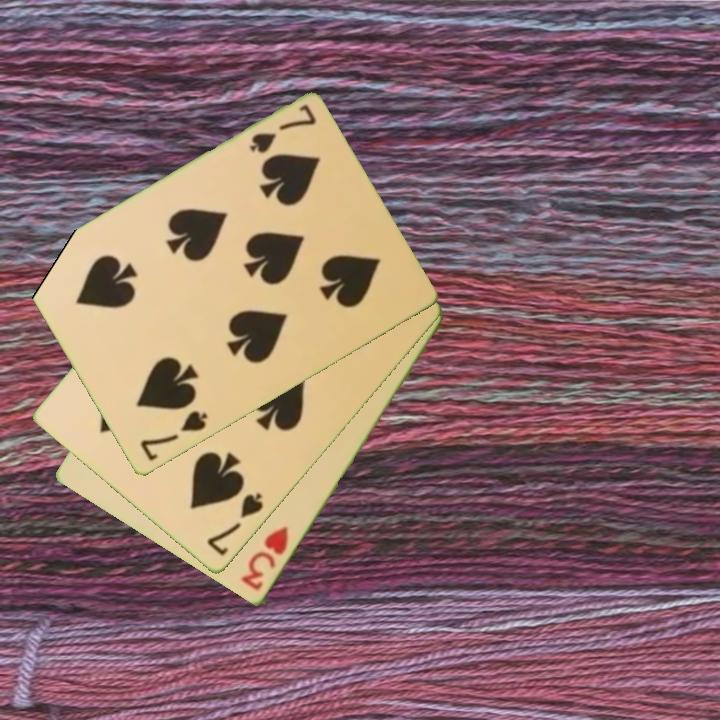3h: (237, 523, 292, 594)
7s: (203, 489, 267, 560), (136, 407, 211, 465), (245, 101, 319, 157)
